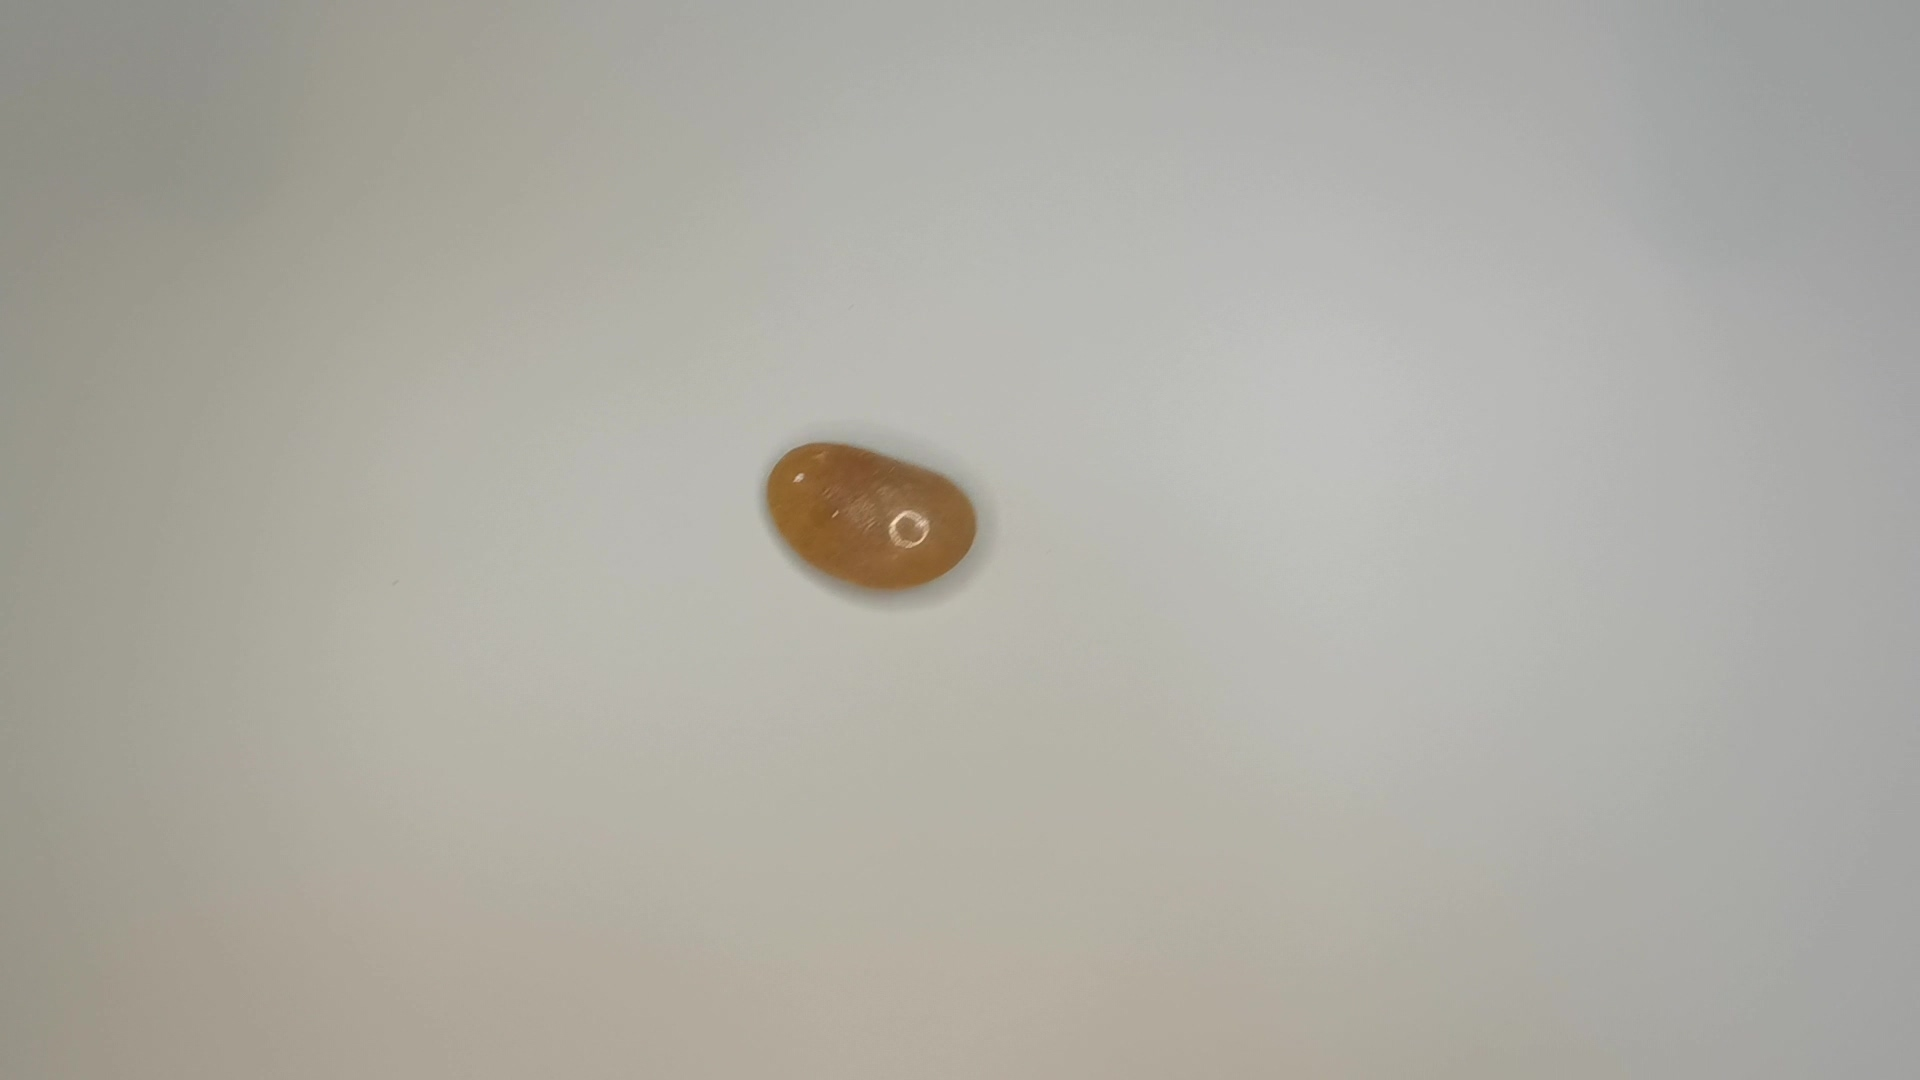ceramic: (762, 442, 992, 597)
